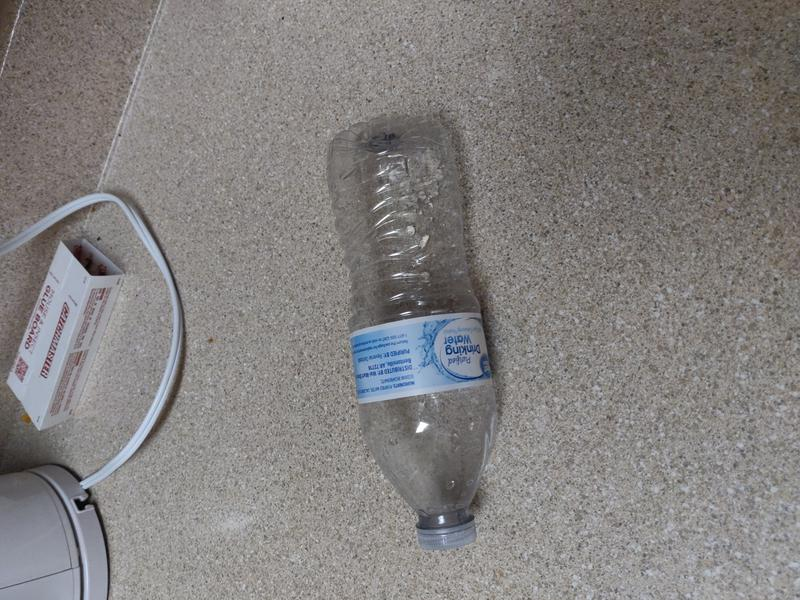bottle: (326, 110, 498, 550)
